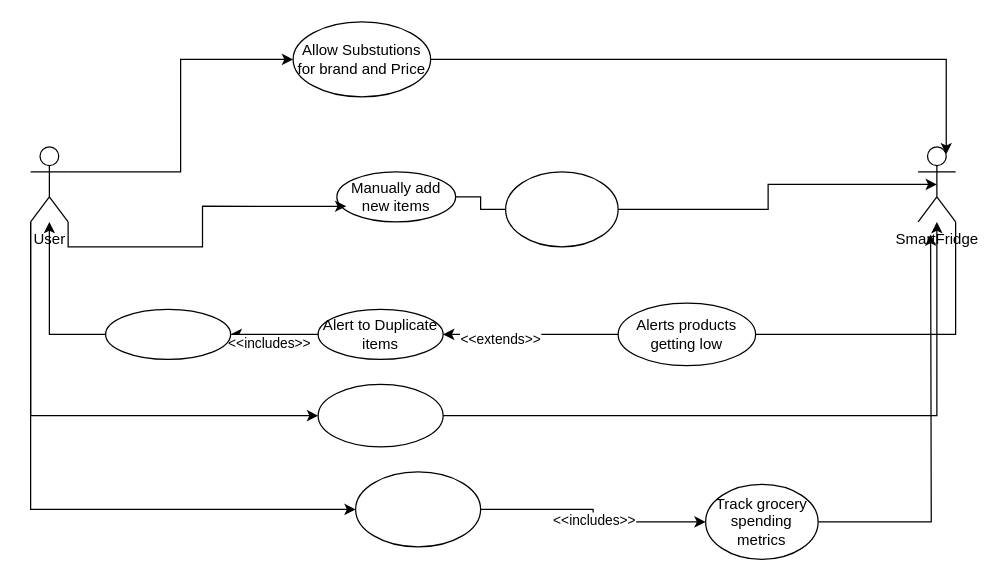
The diagram is 1000 pixels wide and 581 high, and some of its shapes have lost their labels. The centre of each missing label's shape, as x and y in pixels:
Display item count: the point at 561,209
Recommend freq bought itmes: the point at 167,333
Sort list by department: the point at 380,415
Wallet functionality to pay: the point at 417,509
